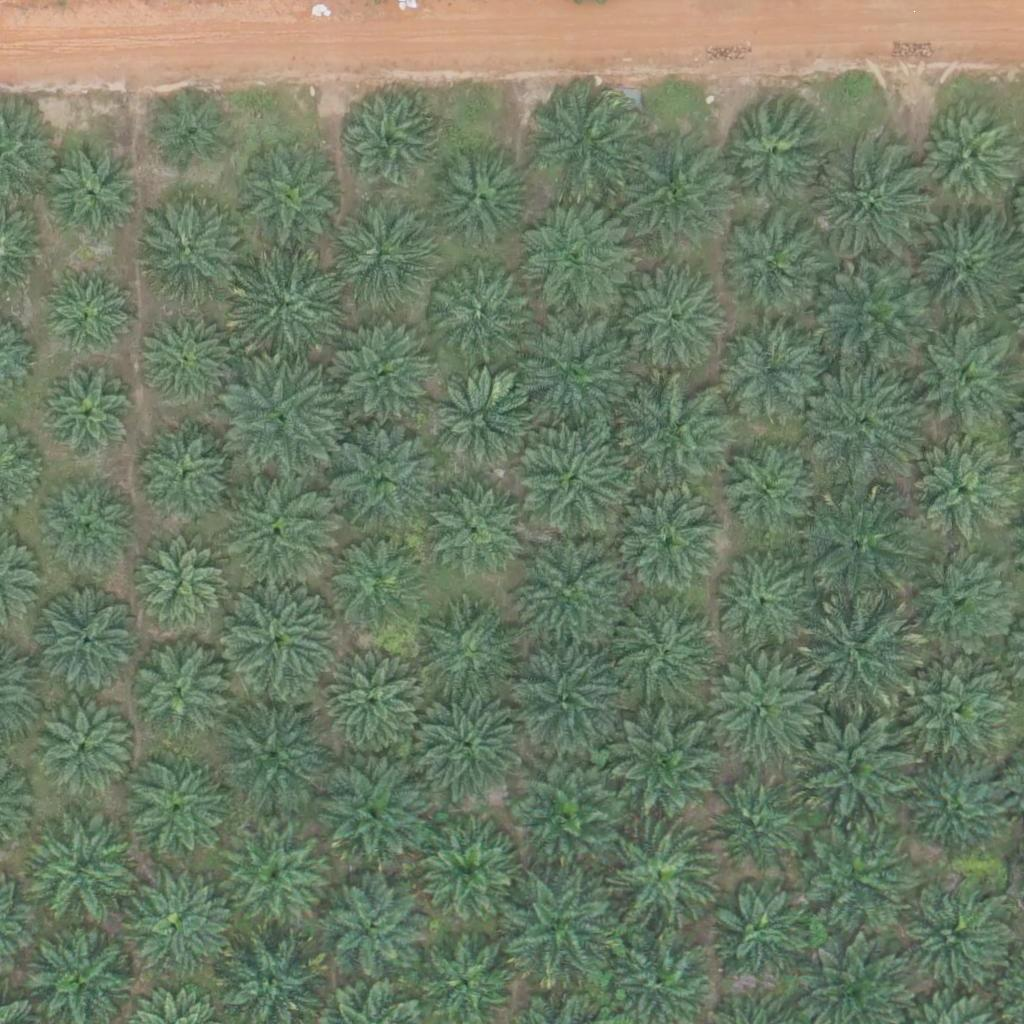Kelapa_Sawit: (801, 717, 914, 831), (695, 878, 808, 992), (607, 485, 720, 599), (601, 818, 714, 932), (217, 818, 330, 932), (32, 584, 145, 697), (894, 656, 1007, 769), (905, 213, 1018, 326), (819, 259, 932, 372), (799, 363, 912, 476), (717, 206, 830, 319), (610, 142, 723, 255), (611, 263, 724, 376), (604, 603, 717, 716), (524, 91, 637, 204), (517, 208, 630, 321), (521, 423, 634, 536), (514, 525, 627, 638), (409, 607, 522, 720), (224, 368, 337, 481), (219, 475, 332, 588), (224, 579, 337, 692), (212, 705, 325, 818), (125, 195, 238, 308), (25, 818, 138, 931), (715, 96, 827, 210), (607, 710, 719, 824), (512, 634, 624, 748), (412, 821, 524, 935), (230, 140, 342, 254), (906, 876, 1018, 989), (905, 544, 1017, 657), (813, 147, 925, 260), (806, 487, 918, 600), (807, 600, 919, 713), (799, 827, 911, 940), (708, 653, 820, 766), (626, 375, 738, 488), (519, 319, 631, 432), (501, 878, 613, 991), (430, 370, 542, 483), (415, 683, 527, 796), (317, 876, 429, 989), (318, 760, 430, 873), (329, 419, 441, 532), (229, 255, 341, 368), (25, 473, 137, 586), (908, 765, 1008, 866), (915, 107, 1015, 208), (710, 778, 810, 879), (710, 545, 810, 646), (723, 329, 823, 430), (433, 143, 533, 244), (432, 272, 532, 373), (425, 481, 525, 582), (324, 533, 424, 634), (334, 320, 434, 421), (122, 875, 222, 976), (130, 759, 230, 860), (130, 635, 230, 736), (130, 530, 230, 631), (139, 425, 239, 526), (40, 362, 140, 463), (28, 699, 128, 800), (717, 444, 817, 544), (511, 761, 611, 861), (324, 652, 424, 752), (327, 207, 427, 307), (338, 90, 438, 190), (36, 260, 136, 360), (43, 136, 143, 236), (147, 86, 235, 174), (140, 314, 228, 402)
